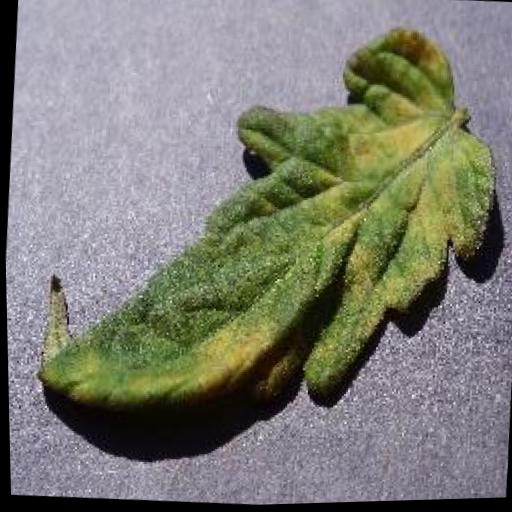Leaf Mold: (24, 4, 507, 439)
